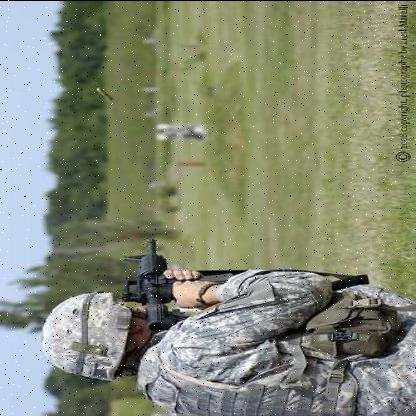rifle: (92, 224, 231, 327)
